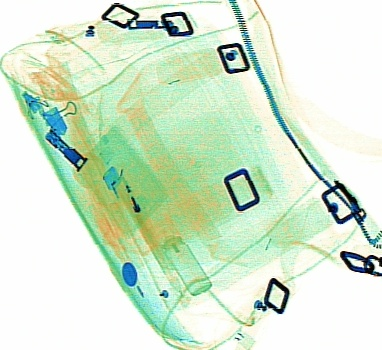lighter: (99, 165, 157, 256)
